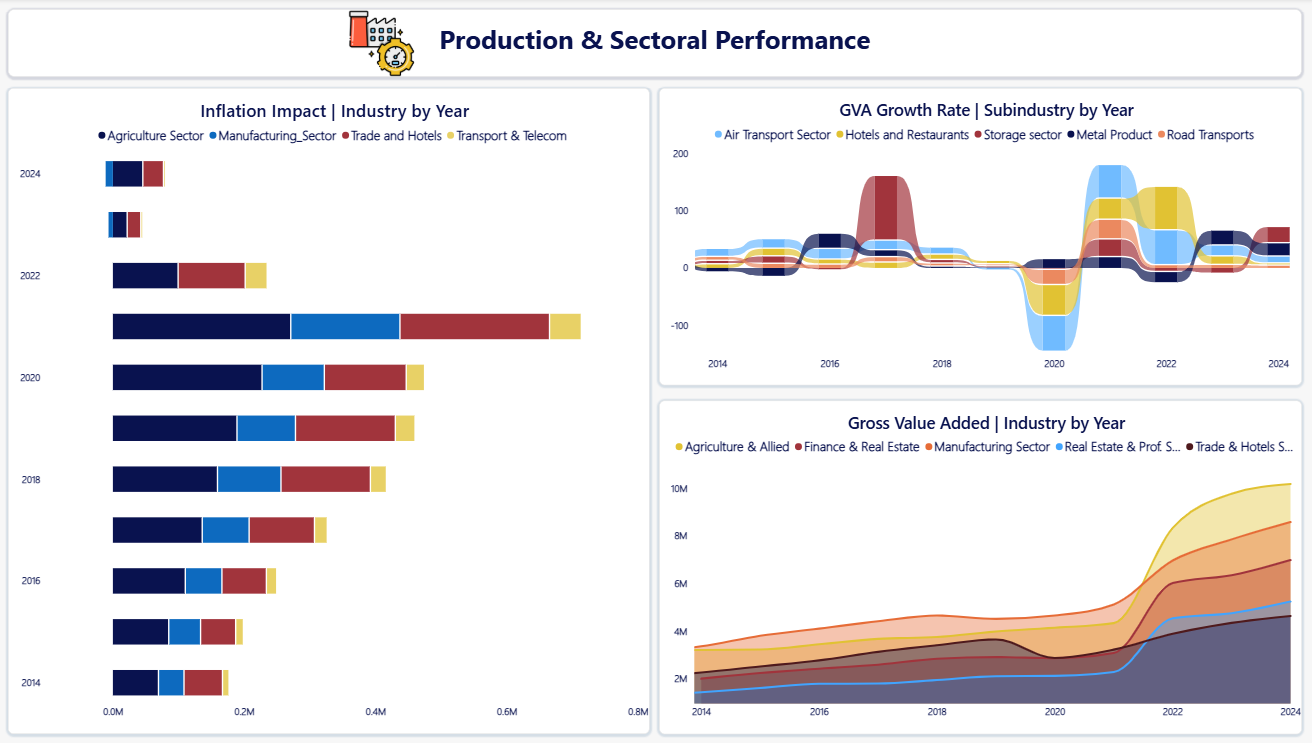

This screenshot's page, from the dashboard's own definition file:
{"tool":"powerbi","page":{"name":"Sectoral Performance","canvas":[1920,1080],"ordinal":4},"visuals":[{"type":"textbox","box":[29,16.3,1873,97.7],"z":0},{"type":"image","box":[499.5,16.3,139.3,97.7],"z":1000},{"type":"lineChart","title":"Gross Value Added | Industry by Year","fields":{"Category":["GVA by industry.Year_1"],"Y":["GVA by industry.Agriculture & Allied","GVA by industry.Finance & Real Estate","GVA by industry.Manufacturing Sector","GVA by industry.Real Estate & Prof. Services","GVA by industry.Trade & Hotels Sector"]},"box":[971.8,582.7,930.2,483.2],"z":2000},{"type":"ribbonChart","title":"GVA Growth Rate | Subindustry by Year","fields":{"Category":["GVA Growth Rate by Sub Industry.Year_1"],"Y":["GVA Growth Rate by Sub Industry.Air Transport Sector","GVA Growth Rate by Sub Industry.Hotels and Restaurants","GVA Growth Rate by Sub Industry.Storage sector","GVA Growth Rate by Sub Industry.Metal Product","GVA Growth Rate by Sub Industry.Road Transports"]},"box":[971.8,130.3,930.2,430.7],"z":3000},{"type":"barChart","title":"Inflation Impact | Industry by Year","fields":{"Category":["Inflation Factor.Year_1"],"Y":["Inflation Factor.Agriculture Sector","Inflation Factor.Manufacturing_Sector","Inflation Factor.Trade and Hotels","Inflation Factor.Transport & Telecom"]},"box":[28.1,129.8,928.4,934.9],"z":3001}]}

Visuals, with their boxes in screenshot pixels (x1, y1, x2, y2), scaled from the page's 1920x1080 canvas onto the 1312x743 screenshot:
textbox: 20 11 1300 78
image: 341 11 437 78
"Gross Value Added | Industry by Year" lineChart: 664 401 1300 733
"GVA Growth Rate | Subindustry by Year" ribbonChart: 664 90 1300 386
"Inflation Impact | Industry by Year" barChart: 19 89 654 732
